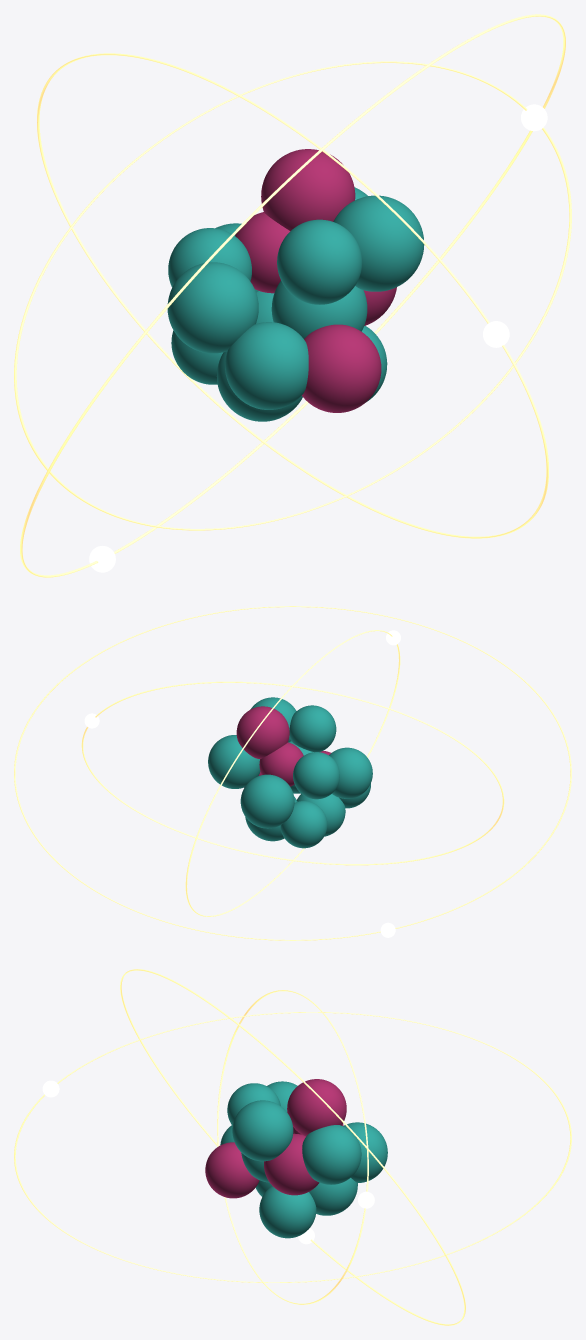
The model's file is atom.glb.
The picture shows the model from 3 angles, top to bottom: view 1: azimuth 30°, elevation 25°; view 2: azimuth 150°, elevation 25°; view 3: azimuth 270°, elevation 25°; orthographic projection. The views are drawn at different scales.
Parts seen in each view (by area): view 1: nuc_12, nuc_6, nuc_1, nuc_13, nuc_14, nuc_7, orb_2, orb_1, orb_0, nuc_3, nuc_0, nuc_11 (+3 smaller); view 2: orb_2, nuc_15, nuc_7, nuc_9, orb_0, nuc_0, nuc_1, nuc_4, nuc_12, orb_1, nuc_11, nuc_8 (+2 smaller); view 3: nuc_13, nuc_9, nuc_7, orb_1, nuc_10, nuc_14, orb_2, nuc_2, nuc_15, orb_0, nuc_5, nuc_1.
Part boxes in pixels (left/top/right/bottom): nuc_12: left=167, top=262, right=258, bottom=353; nuc_6: left=225, top=322, right=308, bottom=409; nuc_1: left=277, top=219, right=362, bottom=304; nuc_13: left=333, top=195, right=424, bottom=291; nuc_14: left=302, top=324, right=381, bottom=412; nuc_7: left=261, top=149, right=355, bottom=230; orb_2: left=20, top=14, right=565, bottom=577; orb_1: left=37, top=53, right=548, bottom=538; orb_0: left=14, top=61, right=571, bottom=530; nuc_3: left=271, top=281, right=367, bottom=338; nuc_0: left=168, top=228, right=251, bottom=287; nuc_11: left=235, top=212, right=290, bottom=293; orb_2: left=14, top=606, right=571, bottom=940; nuc_15: left=240, top=774, right=294, bottom=828; nuc_7: left=236, top=706, right=289, bottom=758; nuc_9: left=208, top=735, right=260, bottom=788; orb_0: left=81, top=681, right=504, bottom=865; nuc_0: left=293, top=752, right=339, bottom=799; nuc_1: left=289, top=705, right=336, bottom=752; nuc_4: left=280, top=801, right=327, bottom=848; nuc_12: left=329, top=747, right=372, bottom=798; orb_1: left=185, top=630, right=400, bottom=916; nuc_11: left=259, top=742, right=303, bottom=786; nuc_8: left=297, top=793, right=345, bottom=836; nuc_13: left=232, top=1100, right=293, bottom=1161; nuc_9: left=302, top=1125, right=361, bottom=1184; nuc_7: left=287, top=1079, right=346, bottom=1136; orb_1: left=14, top=1012, right=571, bottom=1282; nuc_10: left=259, top=1186, right=316, bottom=1238; nuc_14: left=205, top=1142, right=259, bottom=1198; orb_2: left=120, top=969, right=465, bottom=1325; nuc_2: left=264, top=1133, right=319, bottom=1195; nuc_15: left=343, top=1122, right=387, bottom=1182; orb_0: left=217, top=990, right=368, bottom=1304; nuc_5: left=309, top=1178, right=357, bottom=1215; nuc_1: left=227, top=1083, right=280, bottom=1125.
Size of the model in its own units: 8.08 by 4.98 by 8.19.
